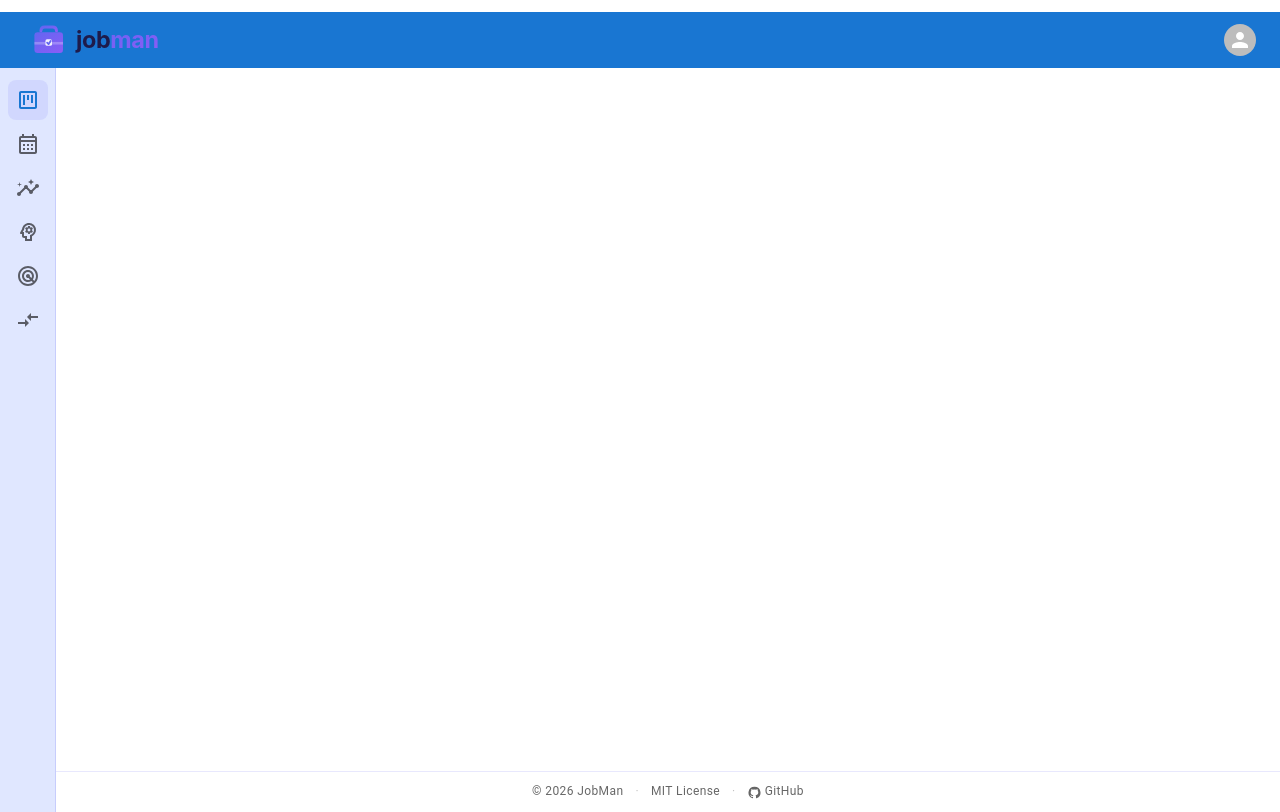
appShell › opens user menu on avatar button click
The width and height of the screenshot is (1280, 812).
What coordinates should you click on to do the following:
click the button named "User menu"
I would click on:
 (1240, 40)
Its box is [1224,24,1256,56].
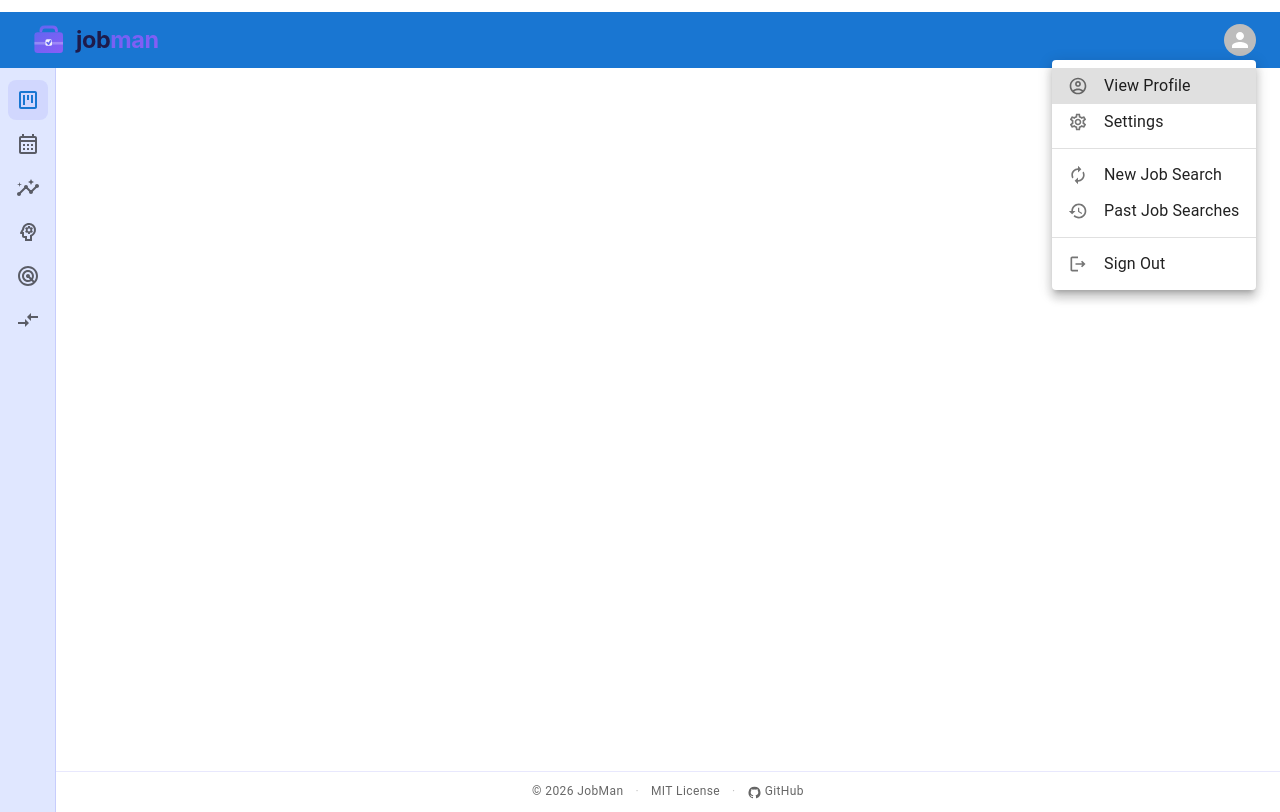
Check: the menu item "Sign Out" is shown, box [1068,254,1166,274]
